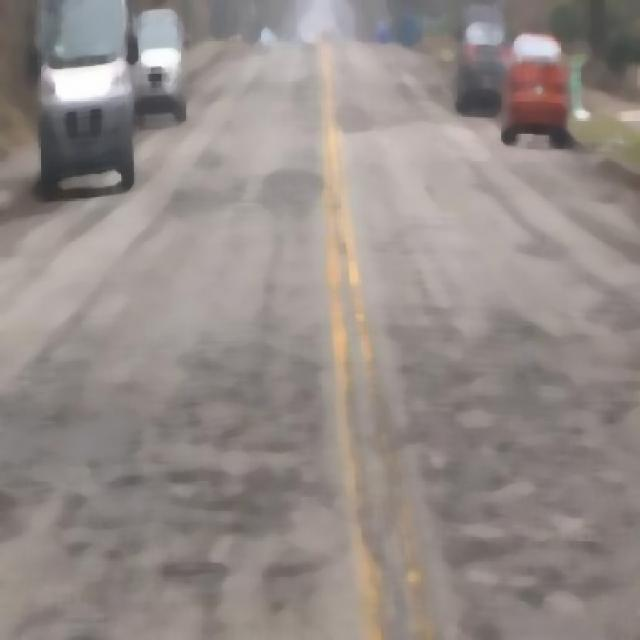Pothole: (165, 377, 237, 455), (559, 381, 627, 450), (155, 542, 234, 596), (508, 572, 555, 630), (398, 338, 431, 397), (489, 433, 516, 469)
